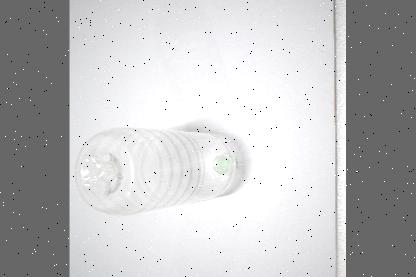Plastic Bottle: (75, 126, 237, 214)
